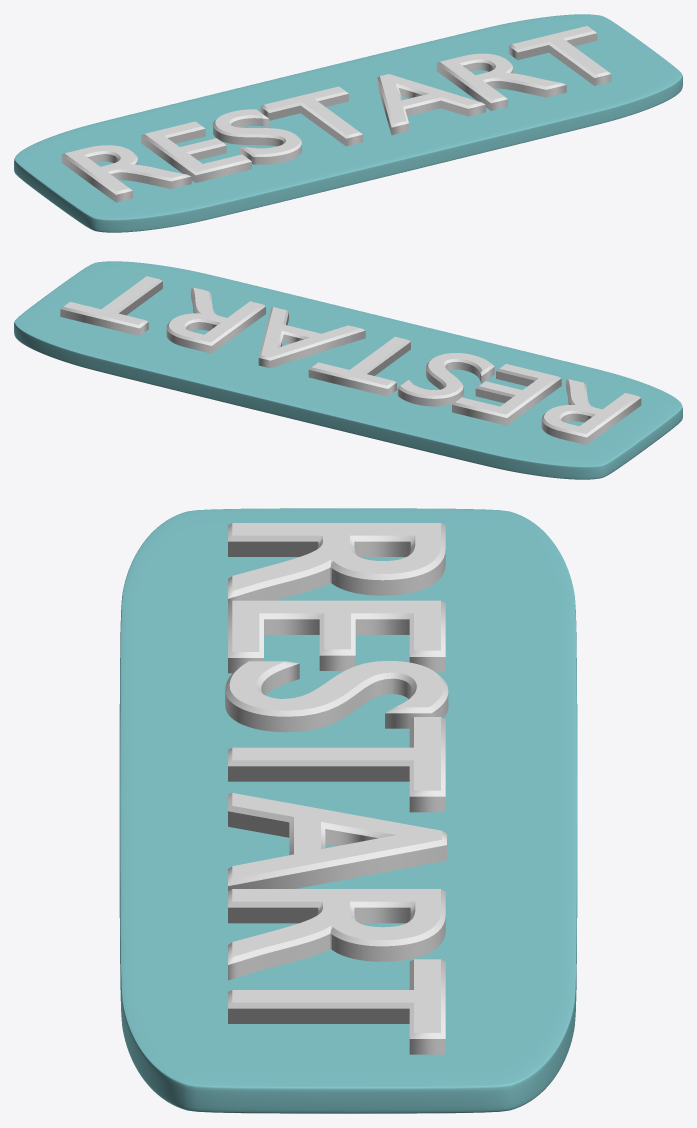
Rendered from restart_button.fbx.
3 views of the same model, one above another, from view 1: azimuth 30°, elevation 25°; view 2: azimuth 150°, elevation 25°; view 3: azimuth 270°, elevation 25° (orthographic). The views are drawn at different scales.
Visible parts, largest first — view 1: 立方体.001, テキスト; view 2: 立方体.001, テキスト; view 3: 立方体.001, テキスト.
Part boxes in pixels (x1,y1,x2,y2): 立方体.001: (14,14,682,232); テキスト: (61,26,611,202); 立方体.001: (14,261,682,479); テキスト: (60,276,641,445); 立方体.001: (119,508,577,1113); テキスト: (225,523,448,1054).
Size of the model in its own units: 449 by 17.22 by 150.
